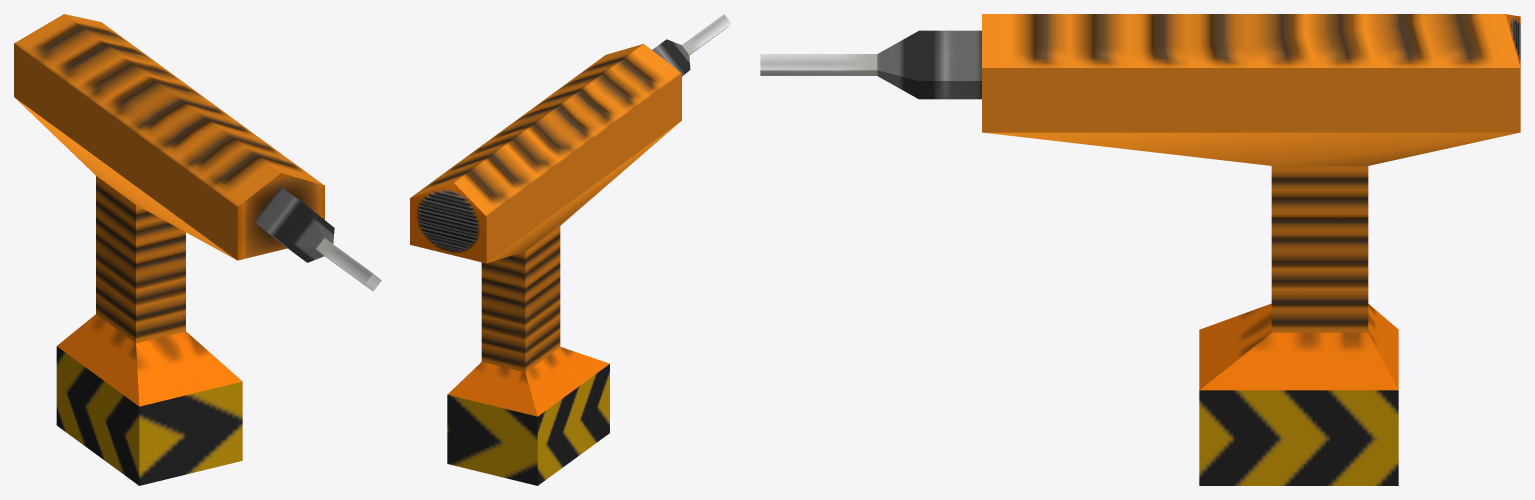
Rendered from Drill_Orange.fbx.
The picture shows the model from 3 angles, left to right: view 1: azimuth 30°, elevation 25°; view 2: azimuth 150°, elevation 25°; view 3: azimuth 270°, elevation 25°; orthographic projection. The views are drawn at different scales.
Parts seen in each view (by area): view 1: Orange_Drill_01; view 2: Orange_Drill_01; view 3: Orange_Drill_01.
Boxes of the visible parts, box(x1,y1,x2,y2) form: Orange_Drill_01: box(14, 14, 381, 485); Orange_Drill_01: box(410, 14, 731, 485); Orange_Drill_01: box(760, 14, 1520, 485).
Bounding box in the file's own units: 0.092 × 0.312 × 0.4867.
